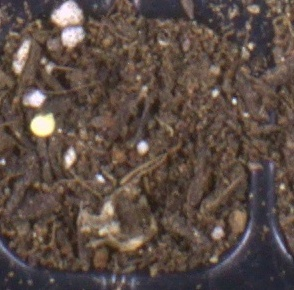chilli seed: (28, 111, 56, 137)
